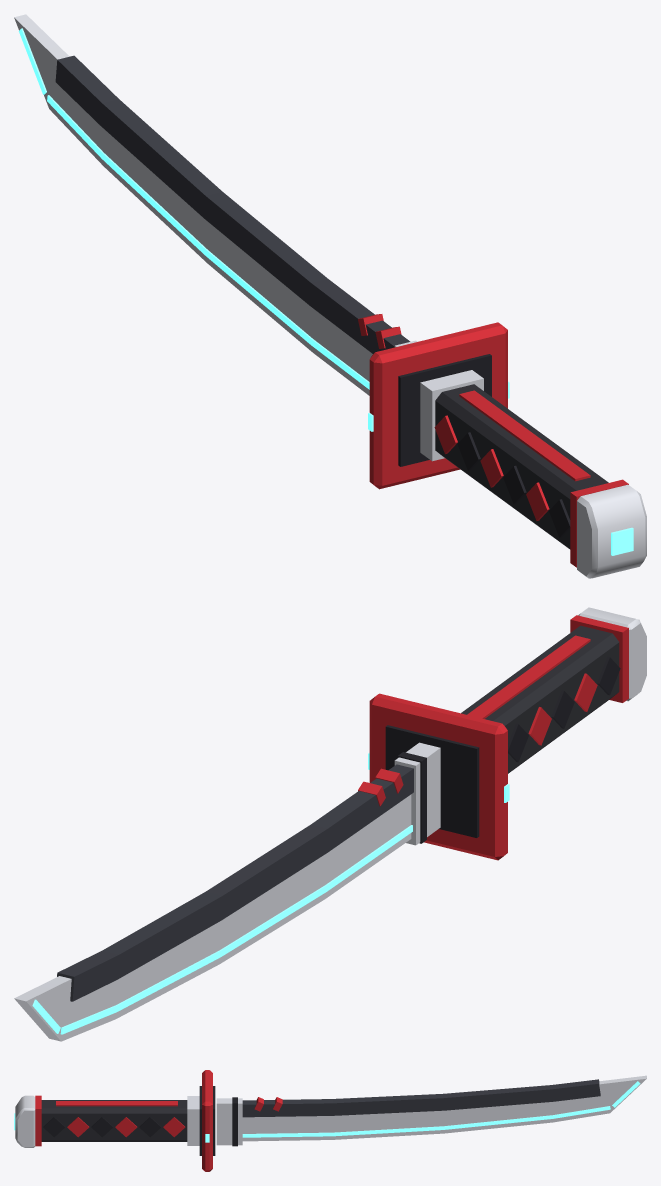
File: Katana.glb
The picture shows the model from 3 angles, top to bottom: view 1: azimuth 30°, elevation 25°; view 2: azimuth 150°, elevation 25°; view 3: azimuth 270°, elevation 25°; orthographic projection. The views are drawn at different scales.
Visible parts, largest first — view 1: Blade, Tsuba, Handle, Pommel, Spine2, Spine1, TsubaCore, Spine0, HandleStripe, Spine3, Fuchi, EdgeGlow2 (+2 smaller); view 2: Blade, Tsuba, Handle, TsubaCore, Spine1, Spine2, Spine0, Habaki, HandleStripe, Pommel, Spine3, PommelBand (+4 smaller); view 3: Blade, Handle, Spine1, Spine2, Spine0, Tsuba, Habaki, Pommel, Spine3, HandleStripe, Fuchi, EdgeGlow1 (+12 smaller).
Boxes of the visible parts, x1=… form: Blade: x1=14, y1=14, x2=372, y2=395; Tsuba: x1=369, y1=322, x2=507, y2=489; Handle: x1=435, y1=384, x2=608, y2=549; Pommel: x1=577, y1=484, x2=646, y2=578; Spine2: x1=100, y1=99, x2=221, y2=217; Spine1: x1=204, y1=191, x2=327, y2=305; TsubaCore: x1=398, y1=354, x2=491, y2=466; Spine0: x1=309, y1=278, x2=410, y2=353; HandleStripe: x1=459, y1=390, x2=590, y2=481; Spine3: x1=55, y1=55, x2=118, y2=124; Fuchi: x1=420, y1=370, x2=483, y2=461; EdgeGlow2: x1=101, y1=152, x2=207, y2=255; Blade: x1=14, y1=794, x2=411, y2=1041; Tsuba: x1=369, y1=693, x2=507, y2=860; Handle: x1=461, y1=625, x2=619, y2=773; TsubaCore: x1=385, y1=725, x2=479, y2=837; Spine1: x1=206, y1=824, x2=328, y2=920; Spine2: x1=102, y1=892, x2=223, y2=979; Spine0: x1=311, y1=764, x2=413, y2=852; Habaki: x1=394, y1=742, x2=440, y2=845; HandleStripe: x1=467, y1=635, x2=590, y2=718; Pommel: x1=578, y1=607, x2=646, y2=701; Spine3: x1=57, y1=950, x2=119, y2=1001; PommelBand: x1=570, y1=615, x2=628, y2=702; Blade: x1=242, y1=1075, x2=646, y2=1141; Handle: x1=41, y1=1100, x2=187, y2=1141; Spine1: x1=332, y1=1094, x2=444, y2=1115; Spine2: x1=443, y1=1085, x2=553, y2=1110; Spine0: x1=242, y1=1099, x2=333, y2=1117; Tsuba: x1=202, y1=1070, x2=212, y2=1171; Habaki: x1=216, y1=1098, x2=242, y2=1145; Pommel: x1=15, y1=1095, x2=35, y2=1147; Spine3: x1=551, y1=1079, x2=600, y2=1101; HandleStripe: x1=56, y1=1101, x2=177, y2=1106; Fuchi: x1=187, y1=1096, x2=199, y2=1145; EdgeGlow1: x1=333, y1=1126, x2=444, y2=1136.
Bounding box in the file's own units: 0.452 × 0.472 × 3.43.
